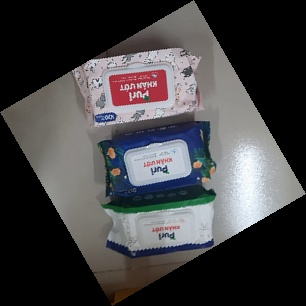Puri Trang: (98, 185, 218, 256)
Puri Xanh: (95, 120, 216, 198)
Puri hong: (65, 46, 207, 129)
